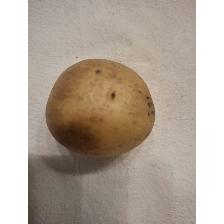Kartoffel: (43, 54, 157, 158)
